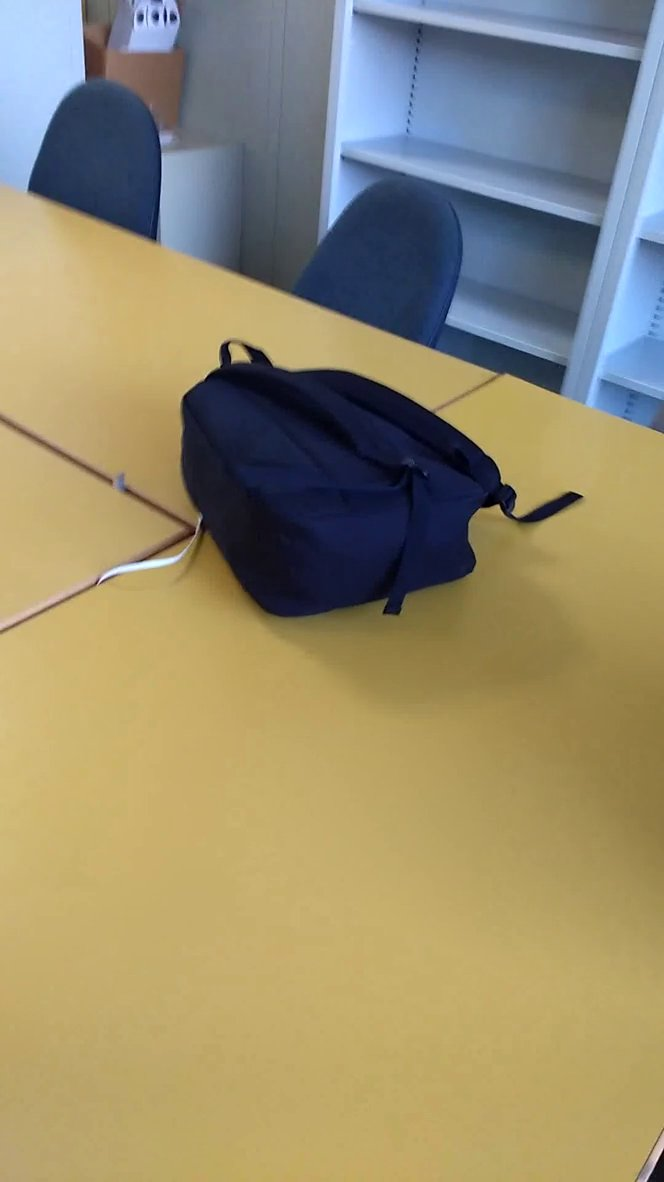bag: (172, 320, 600, 634)
chair: (279, 163, 482, 363), (21, 72, 180, 246)
